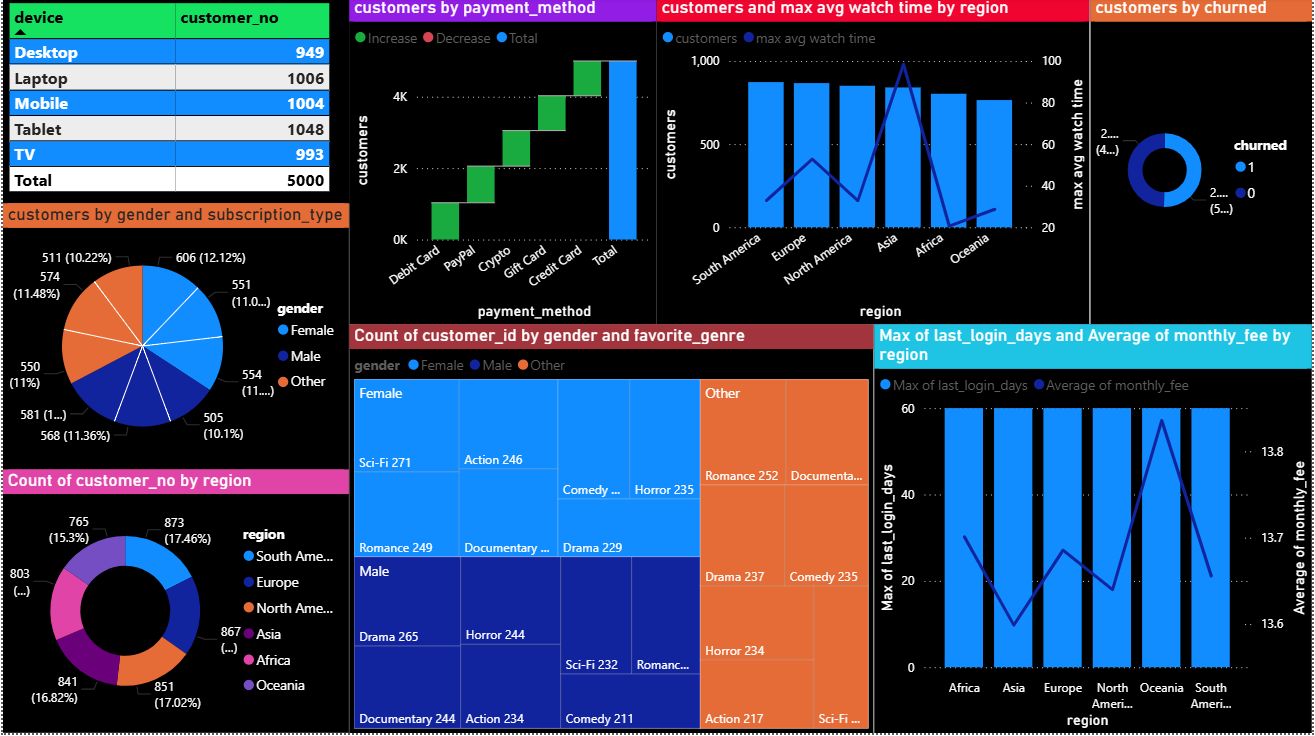

What the dashboard file says about the page in this screenshot:
{"tool":"powerbi","page":{"name":"Page 1","canvas":[1280,720],"ordinal":0},"visuals":[{"type":"tableEx","fields":{"Values":["Netflixdata.device","CountNonNull(Netflixdata.customer_no)"]},"box":[0,1.2,339.5,201.2],"z":0},{"type":"pieChart","fields":{"Category":["Netflixdata.gender"],"Series":["Netflixdata.subscription_type"],"Y":["CountNonNull(Netflixdata.customer_no)"]},"box":[0,202.3,338.4,260.5],"z":1000},{"type":"donutChart","fields":{"Category":["Netflixdata.region"],"Y":["CountNonNull(Netflixdata.customer_no)1"]},"box":[0,462.7,338.6,257.7],"z":2000},{"type":"waterfallChart","fields":{"Category":["Netflixdata.payment_method"],"Y":["CountNonNull(Netflixdata.customer_no)"]},"box":[339,0,301,320],"z":3000},{"type":"lineStackedColumnComboChart","fields":{"Category":["Netflixdata.region"],"Y":["CountNonNull(Netflixdata.customer_no)"],"Y2":["Max(Netflixdata.avg_watch_time_per_day)"]},"box":[640,0,423.5,320],"z":4000},{"type":"treemap","fields":{"Group":["Netflixdata.gender","Netflixdata.customer_id"],"Values":["CountNonNull(Netflixdata.customer_id)"],"Details":["Netflixdata.favorite_genre"]},"box":[338.8,320,512.9,400],"z":5000},{"type":"lineStackedColumnComboChart","fields":{"Category":["Netflixdata.region"],"Y":["Max(Netflixdata.last_login_days)"],"Y2":["Avg(Netflixdata.monthly_fee)"]},"box":[851.8,320,428.2,400],"z":6000},{"type":"donutChart","fields":{"Y":["CountNonNull(Netflixdata.customer_no)"],"Category":["Netflixdata.churned"]},"box":[1063.5,0,216.5,320],"z":7000}]}

Visuals, with their boxes in screenshot pixels (x1, y1, x2, y2), scaled from the page's 1280x720 canvas onto the 1315x736 screenshot:
tableEx - Netflixdata.device x CountNonNull(Netflixdata.customer_no): (0, 1, 349, 207)
pieChart - Netflixdata.gender x Netflixdata.subscription_type: (0, 207, 348, 473)
donutChart - Netflixdata.region x CountNonNull(Netflixdata.customer_no)1: (0, 473, 348, 735)
waterfallChart - Netflixdata.payment_method x CountNonNull(Netflixdata.customer_no): (348, 0, 658, 327)
lineStackedColumnComboChart - Netflixdata.region x CountNonNull(Netflixdata.customer_no): (658, 0, 1093, 327)
treemap - Netflixdata.gender x Netflixdata.customer_id: (348, 327, 875, 735)
lineStackedColumnComboChart - Netflixdata.region x Max(Netflixdata.last_login_days): (875, 327, 1314, 735)
donutChart - CountNonNull(Netflixdata.customer_no) x Netflixdata.churned: (1093, 0, 1314, 327)
